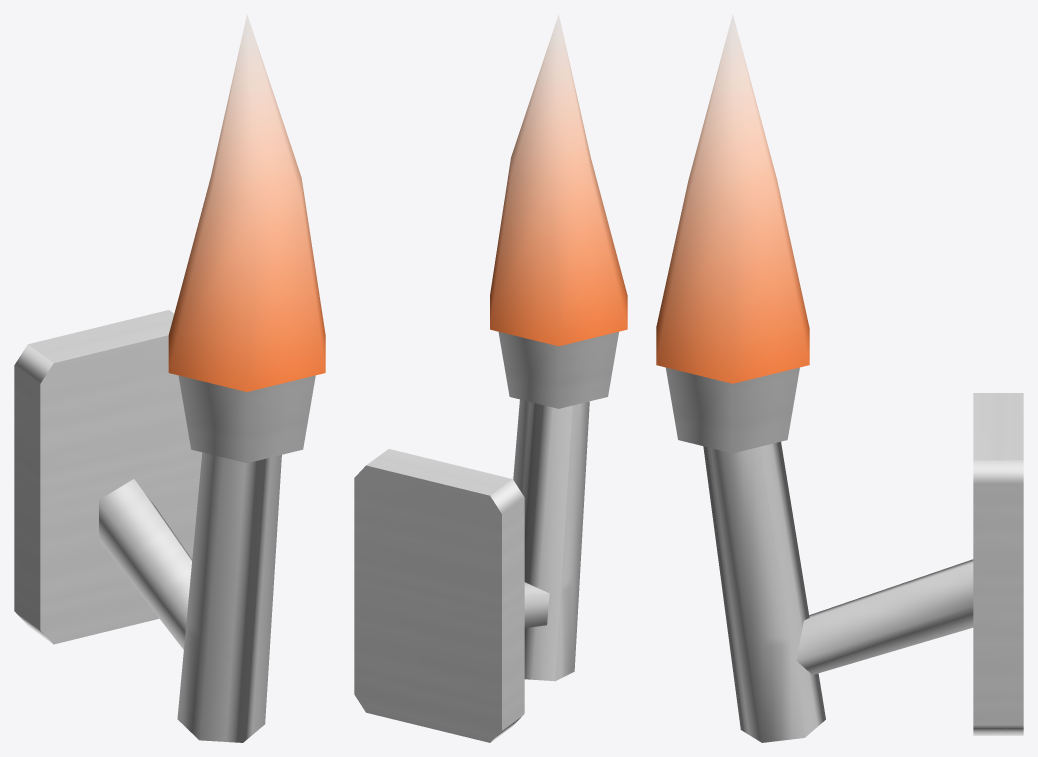
The model's file is wall_torch.obj.
The picture shows the model from 3 angles, left to right: view 1: azimuth 30°, elevation 25°; view 2: azimuth 150°, elevation 25°; view 3: azimuth 270°, elevation 25°; orthographic projection. The views are drawn at different scales.
Parts seen in each view (by area): view 1: wall_plate, outer_flame, wood_shaft, torch_cup, bracket; view 2: wall_plate, outer_flame, wood_shaft, torch_cup, bracket; view 3: outer_flame, wood_shaft, wall_plate, bracket, torch_cup.
Boxes of the visible parts, x1,y1,x2,y2 form: wall_plate: (14,310,202,644); outer_flame: (168,14,325,391); wood_shaft: (177,452,281,742); torch_cup: (178,375,315,463); bracket: (99,479,192,649); wall_plate: (354,449,524,742); outer_flame: (490,14,627,346); wood_shaft: (513,399,589,681); torch_cup: (498,331,618,408); bracket: (524,582,549,627); outer_flame: (656,14,809,383); wood_shaft: (703,441,825,742); wall_plate: (973,393,1023,735); bracket: (796,559,973,674); torch_cup: (666,367,799,453).
Size of the model in its own units: 0.15 by 0.6245 by 0.2906.
